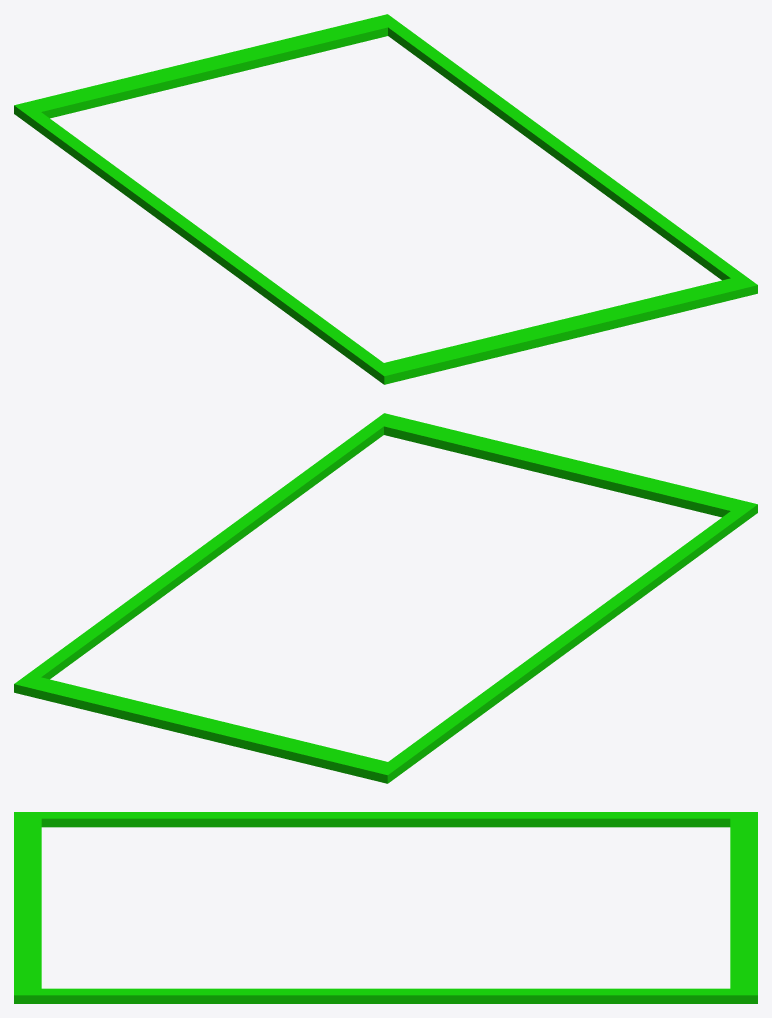
File: Goal.fbx
3 views of the same model, one above another, from view 1: azimuth 30°, elevation 25°; view 2: azimuth 150°, elevation 25°; view 3: azimuth 270°, elevation 25° (orthographic).
Parts seen in each view (by area): view 1: Goal; view 2: Goal; view 3: Goal.
Part boxes in pixels (x1,y1,x2,y2): Goal: (14,14,757,384); Goal: (14,413,757,783); Goal: (14,812,757,1003).
Size of the model in its own units: 3.58 by 0.0787 by 6.15.
